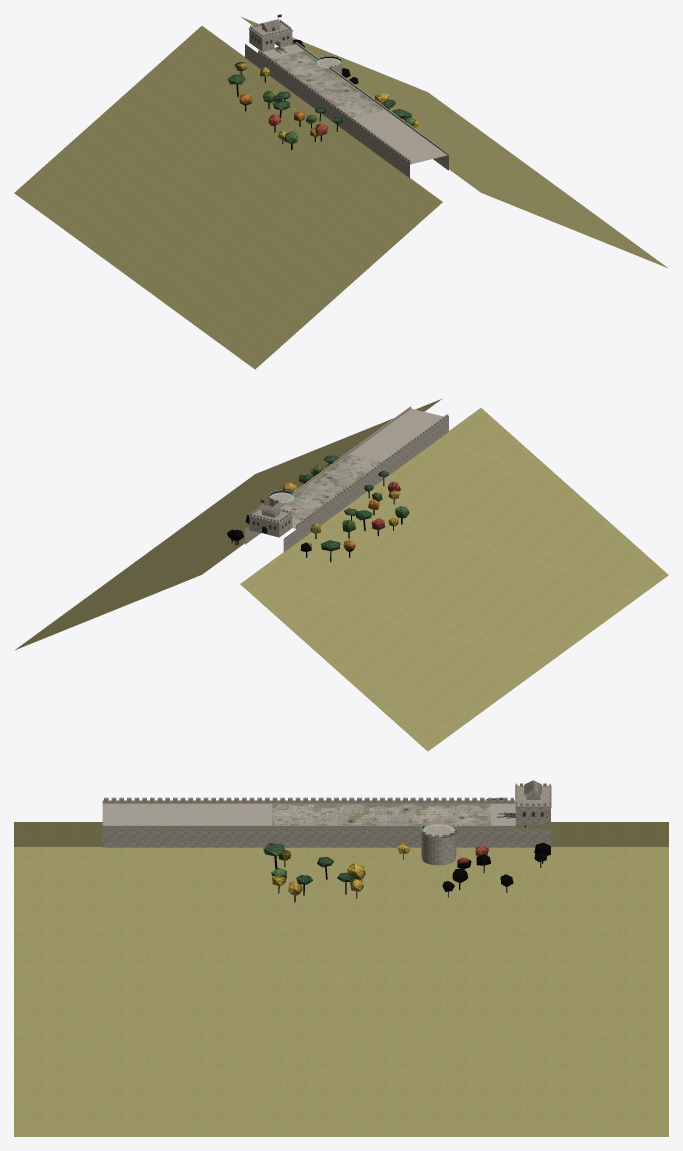
Rendered from lugar-pekin.glb.
3 views of the same model, one above another, from view 1: azimuth 30°, elevation 25°; view 2: azimuth 150°, elevation 25°; view 3: azimuth 270°, elevation 25° (orthographic). The views are drawn at different scales.
Visible parts, largest first — view 1: luzS-pista, vert-cerca; view 2: luzS-pista, vert-cerca; view 3: luzS-pista, vert-cerca.
Part boxes in pixels (left/top/right/bottom): luzS-pista: left=14, top=17, right=667, bottom=369; vert-cerca: left=227, top=14, right=419, bottom=150; luzS-pista: left=15, top=398, right=668, bottom=751; vert-cerca: left=227, top=455, right=409, bottom=562; luzS-pista: left=14, top=780, right=668, bottom=1136; vert-cerca: left=263, top=783, right=550, bottom=902.
Size of the model in its own units: 220 by 82.61 by 222.
Materials: 12 (7 with a texture image).
